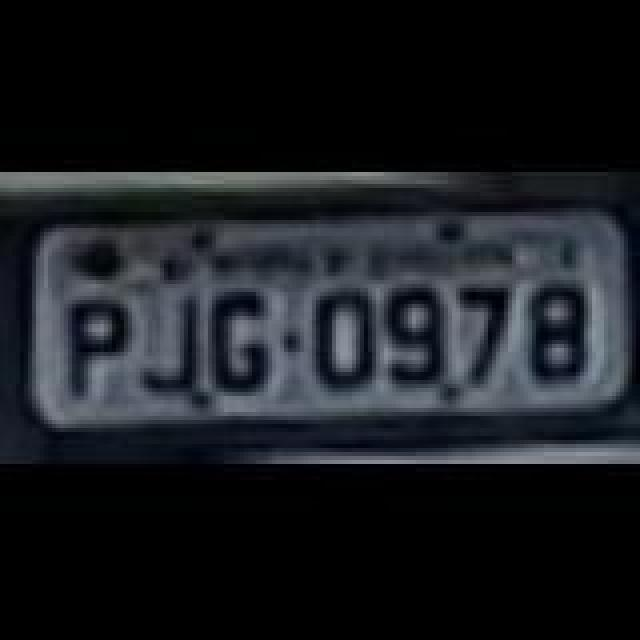7: (452, 282, 516, 390)
8: (528, 280, 592, 384)
9: (384, 284, 448, 388)
G: (206, 290, 274, 398)
J: (134, 290, 202, 398)
O: (308, 286, 380, 386)
P: (62, 294, 130, 394)
